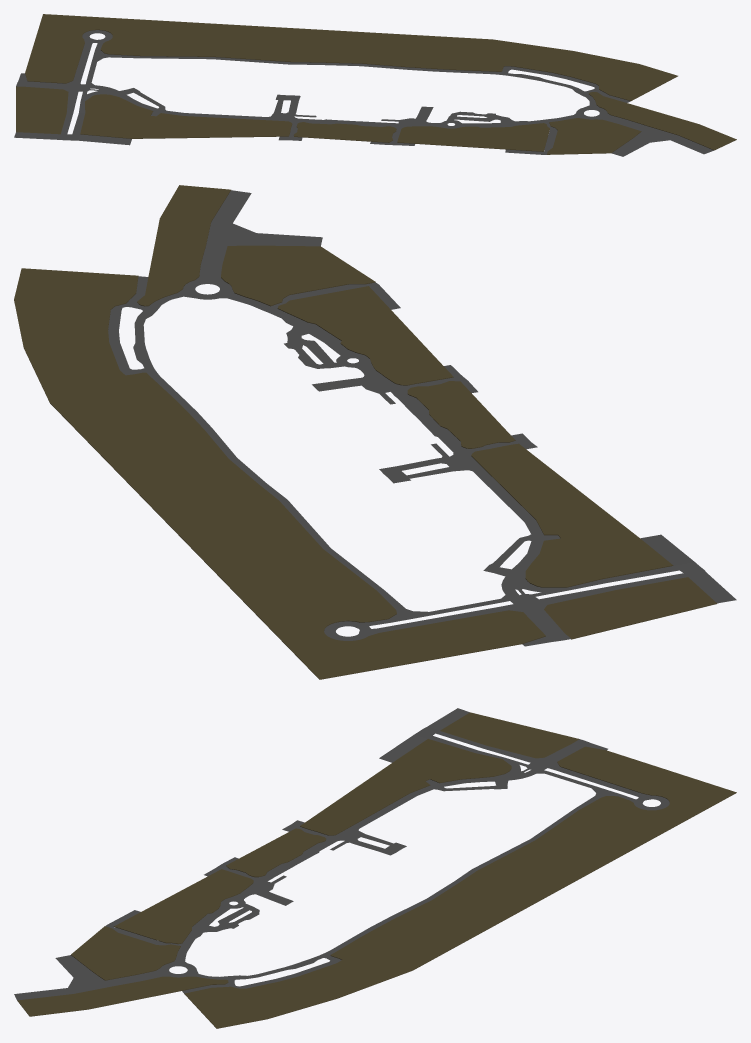
The model's file is HKSTP Map 1.fbx.
The picture shows the model from 3 angles, top to bottom: view 1: azimuth 30°, elevation 25°; view 2: azimuth 150°, elevation 25°; view 3: azimuth 270°, elevation 25°; orthographic projection. The views are drawn at different scales.
Parts seen in each view (by area): view 1: Side Road.004, Road, Side Road.003, Side Road, Side Road.005, Side Road.006, Side Road.002, Side Road.001; view 2: Side Road.004, Road, Side Road.003, Side Road, Side Road.005, Side Road.006, Side Road.002, Side Road.001; view 3: Side Road.004, Road, Side Road.003, Side Road, Side Road.005, Side Road.006, Side Road.002, Side Road.001.
Part boxes in pixels (bbox=[...]): Side Road.004: bbox=[25, 14, 677, 100]; Road: bbox=[14, 30, 713, 156]; Side Road.003: bbox=[80, 94, 292, 138]; Side Road: bbox=[397, 123, 549, 151]; Side Road.005: bbox=[547, 118, 641, 154]; Side Road.006: bbox=[588, 92, 736, 150]; Side Road.002: bbox=[16, 86, 68, 134]; Side Road.001: bbox=[294, 122, 396, 142]; Side Road.004: bbox=[14, 268, 545, 679]; Road: bbox=[108, 190, 736, 646]; Side Road.003: bbox=[471, 443, 673, 587]; Side Road: bbox=[277, 286, 453, 385]; Side Road.005: bbox=[221, 245, 375, 306]; Side Road.006: bbox=[137, 185, 230, 306]; Side Road.002: bbox=[544, 577, 717, 639]; Side Road.001: bbox=[407, 381, 515, 448]; Side Road.004: bbox=[184, 746, 736, 1028]; Road: bbox=[14, 708, 669, 1000]; Side Road.003: bbox=[300, 739, 511, 835]; Side Road: bbox=[114, 869, 253, 944]; Side Road.005: bbox=[71, 926, 180, 980]; Side Road.006: bbox=[17, 976, 228, 1016]; Side Road.002: bbox=[440, 712, 578, 758]; Side Road.001: bbox=[226, 828, 326, 877].
Bounding box in the file's own units: 82398 × 447 × 78491.
